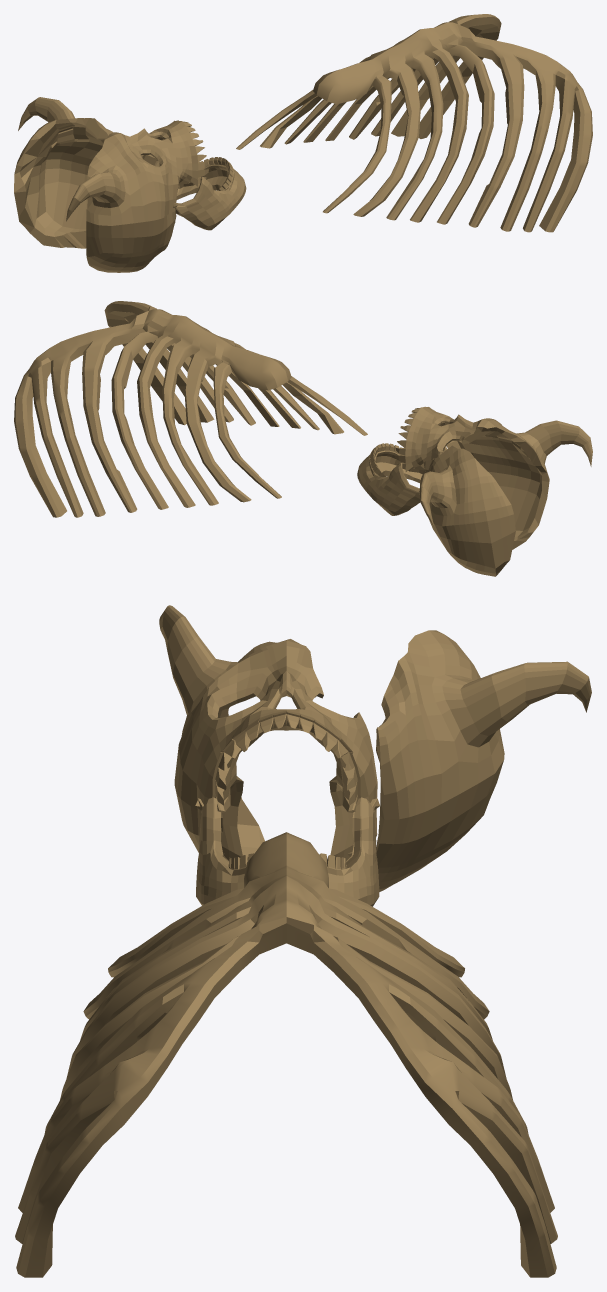
File: GiantSkeleton 1.fbx
3 renders of one model, top to bottom at view 1: azimuth 30°, elevation 25°; view 2: azimuth 150°, elevation 25°; view 3: azimuth 270°, elevation 25°, orthographic. The views are drawn at different scales.
Parts seen in each view (by area): view 1: Ribcage:Ribcage:Rib_R, SkullAndJawFinal_Jaw; view 2: Ribcage:Ribcage:Rib_R, SkullAndJawFinal_Jaw; view 3: Ribcage:Ribcage:Rib_R, SkullAndJawFinal_Jaw.
Part boxes in pixels (x1=…): Ribcage:Ribcage:Rib_R: x1=236, y1=14, x2=592, y2=232; SkullAndJawFinal_Jaw: x1=14, y1=97, x2=246, y2=272; Ribcage:Ribcage:Rib_R: x1=14, y1=301, x2=367, y2=517; SkullAndJawFinal_Jaw: x1=357, y1=406, x2=592, y2=576; Ribcage:Ribcage:Rib_R: x1=15, y1=832, x2=557, y2=1277; SkullAndJawFinal_Jaw: x1=159, y1=605, x2=591, y2=906.
Size of the model in its own units: 4782 by 1553 by 2390.
